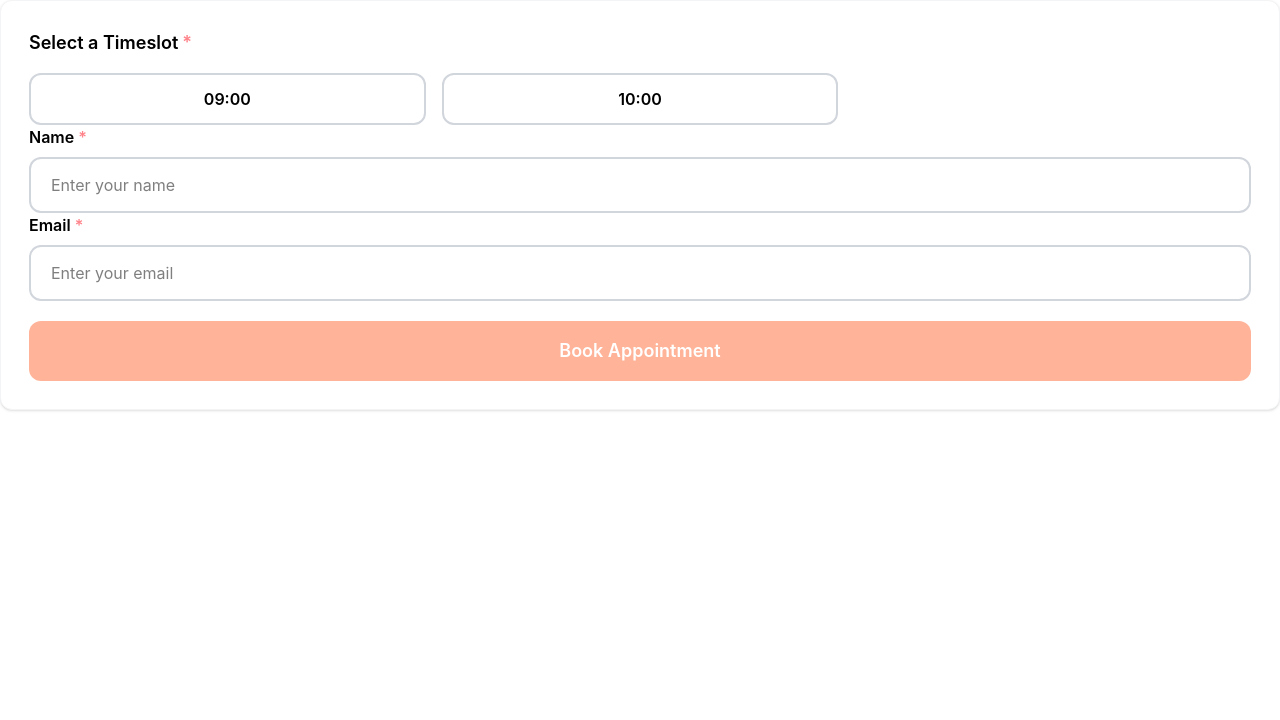
it: BookingForm › handles successful booking
Click the button "09:00". click: (227,99)
box: left=29, top=73, right=426, bottom=125
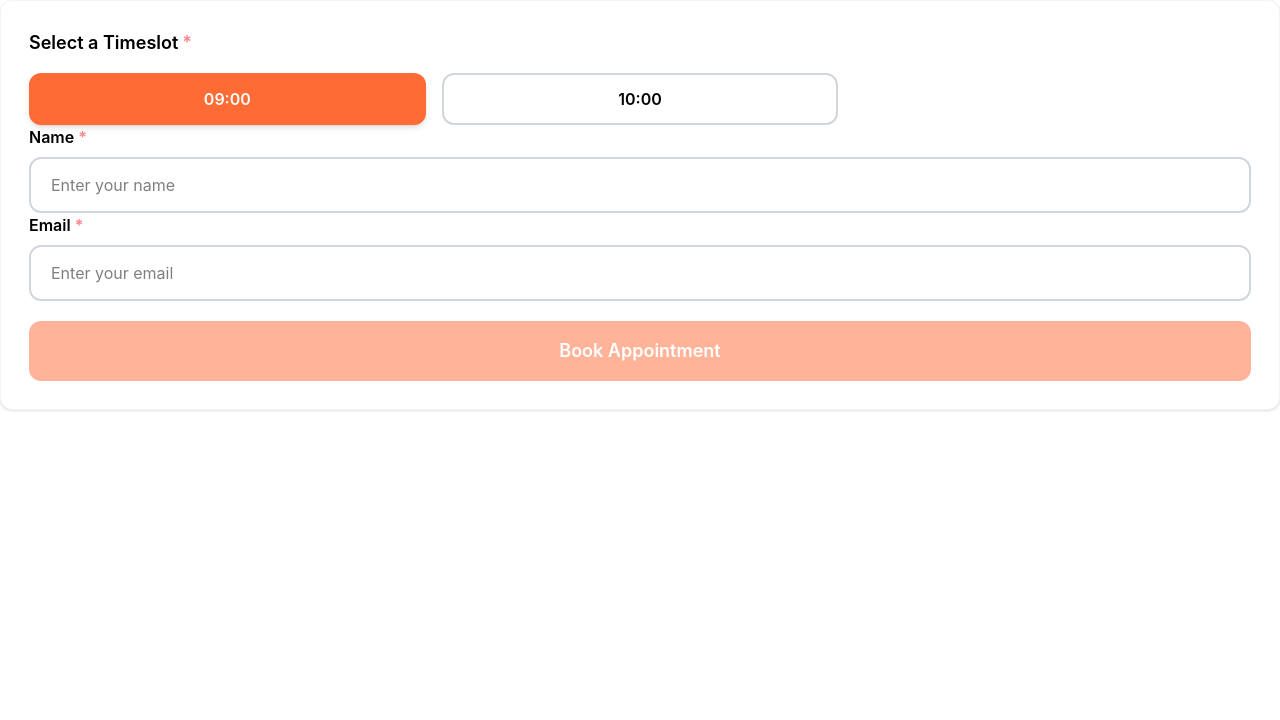
Type "John Doe" into the field labelled "Name*". click: (640,185)
box: left=29, top=157, right=1251, bottom=213
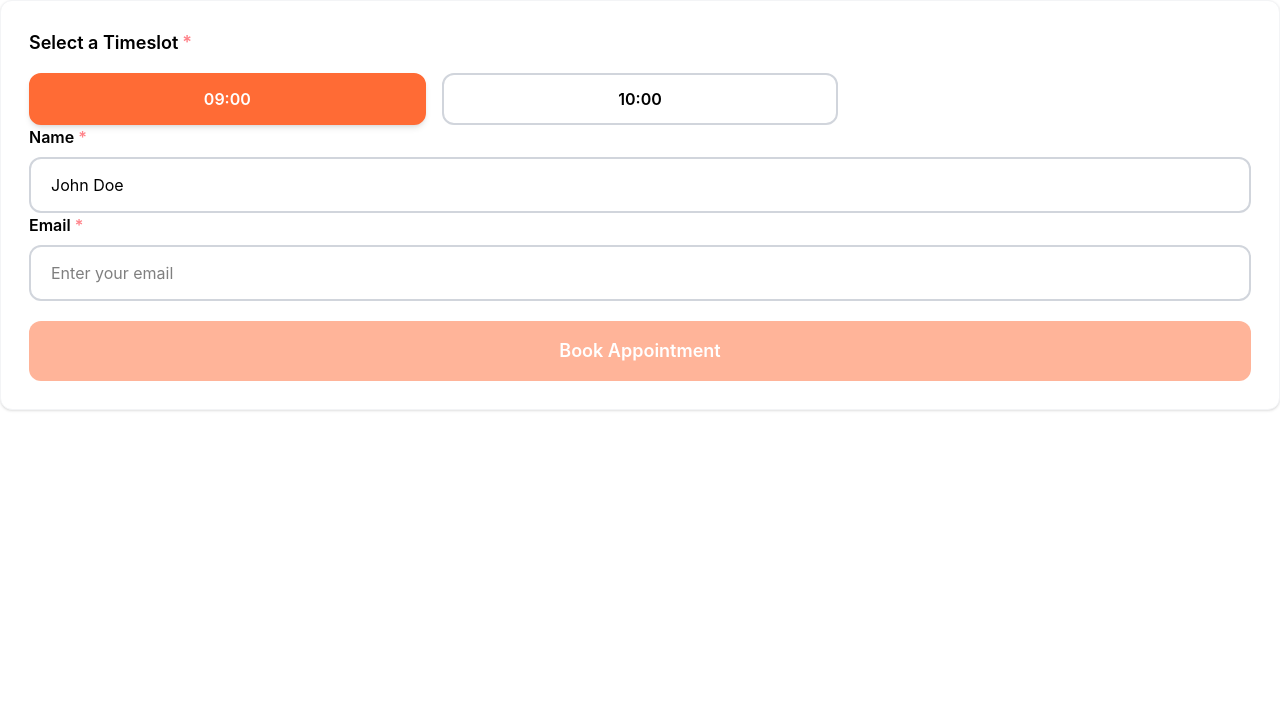
Type "john@example.com" into the field labelled "Email*". click: (640,273)
box: left=29, top=245, right=1251, bottom=301
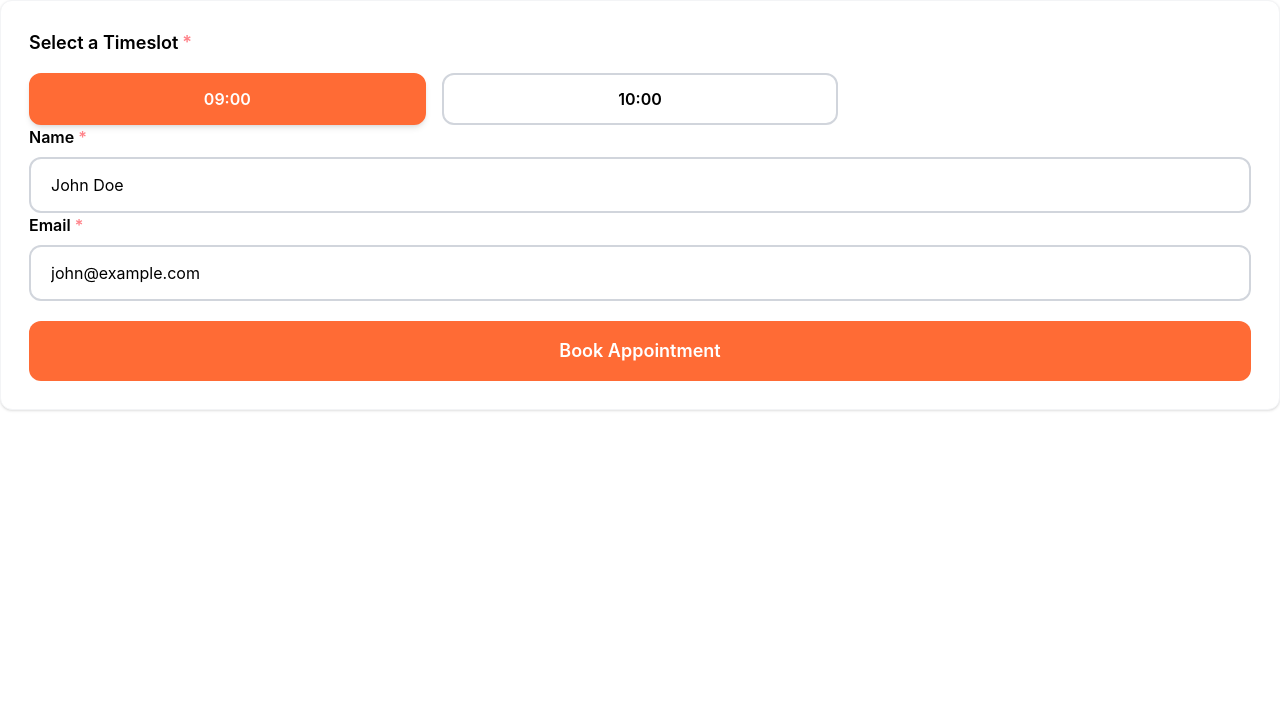
Click the button "Book Appointment". click: (640,351)
box: left=29, top=321, right=1251, bottom=381
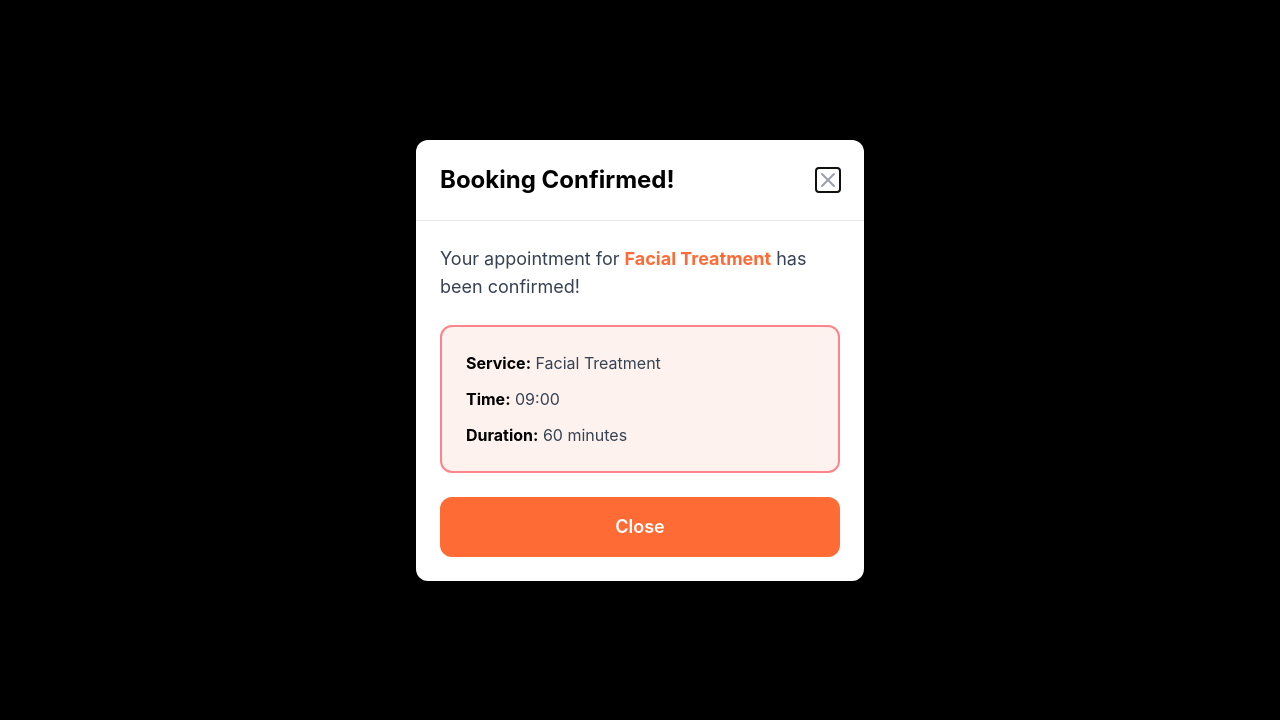
Check: the heading "Booking Confirmed!" is shown, box left=440, top=164, right=683, bottom=196
